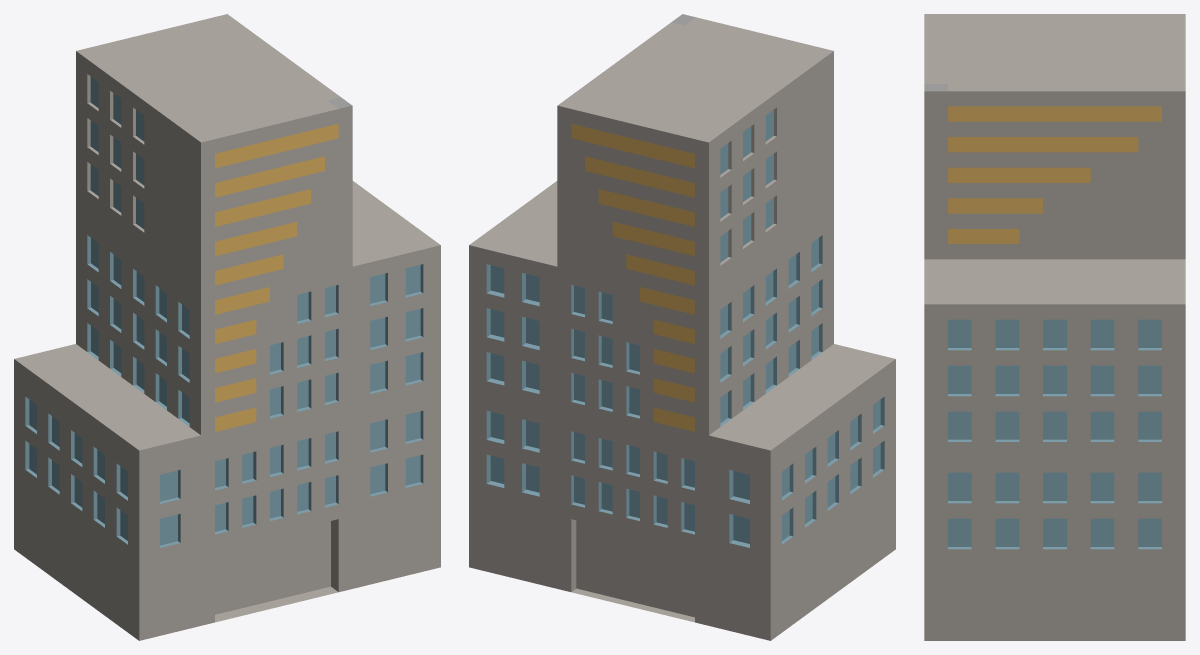
The model's file is MM_house_05_final.fbx.
The picture shows the model from 3 angles, left to right: view 1: azimuth 30°, elevation 25°; view 2: azimuth 150°, elevation 25°; view 3: azimuth 270°, elevation 25°; orthographic projection. The views are drawn at different scales.
Parts seen in each view (by area): view 1: pCube1; view 2: pCube1; view 3: pCube1.
Part boxes in pixels (x1,y1,x2,y2): pCube1: (14,14,440,640); pCube1: (469,14,895,640); pCube1: (924,14,1185,640).
Size of the model in its own units: 32 by 49 by 23.
